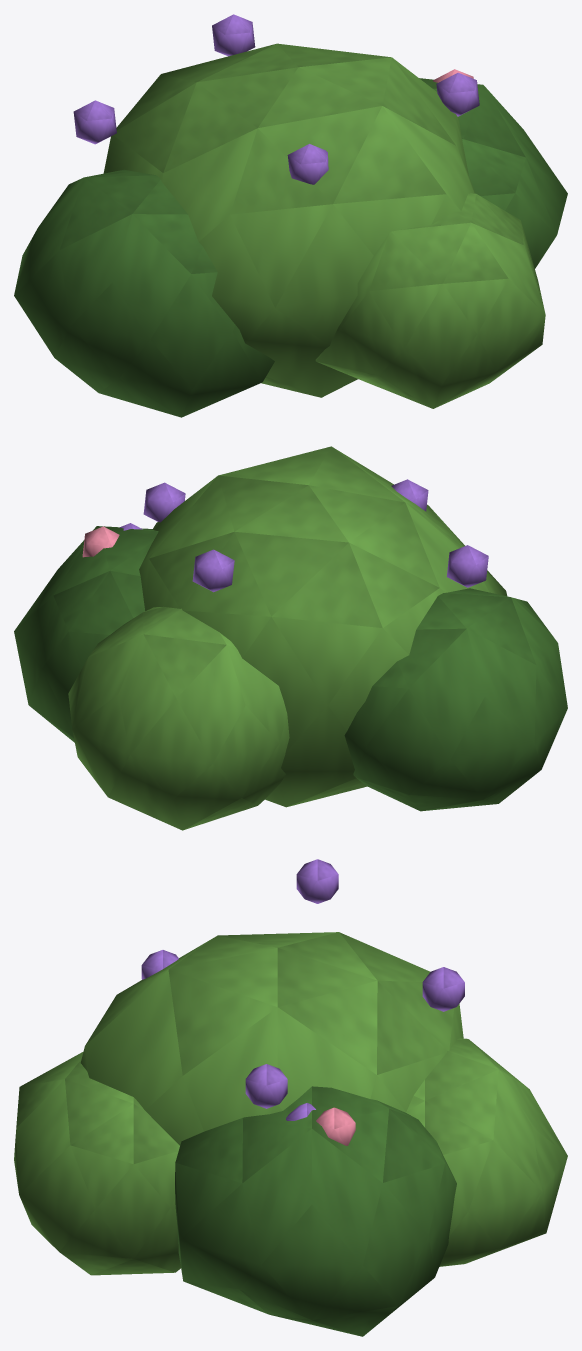
Rendered from bush_round_07.glb.
3 renders of one model, top to bottom at view 1: azimuth 30°, elevation 25°; view 2: azimuth 150°, elevation 25°; view 3: azimuth 270°, elevation 25°, orthographic. The views are drawn at different scales.
Visible parts, largest first — view 1: bush_round_07; view 2: bush_round_07; view 3: bush_round_07.
Boxes of the visible parts, left/top/right/bottom form: bush_round_07: left=14, top=14, right=567, bottom=417; bush_round_07: left=14, top=446, right=567, bottom=830; bush_round_07: left=14, top=859, right=567, bottom=1336.
Size of the model in its own units: 2.07 by 1.19 by 1.87.
Materials: 1 (1 with a texture image).
